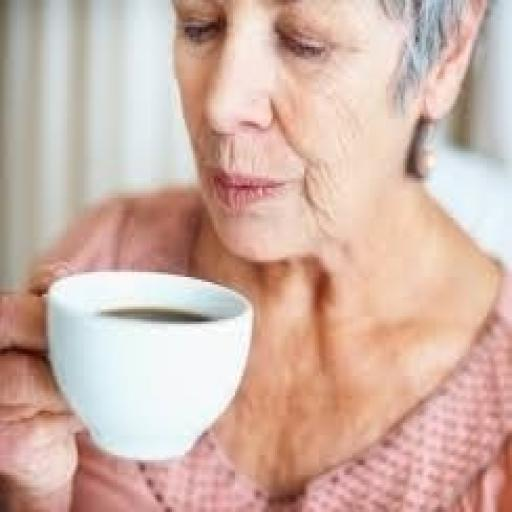drinking: (0, 0, 510, 510), (42, 267, 254, 463)
